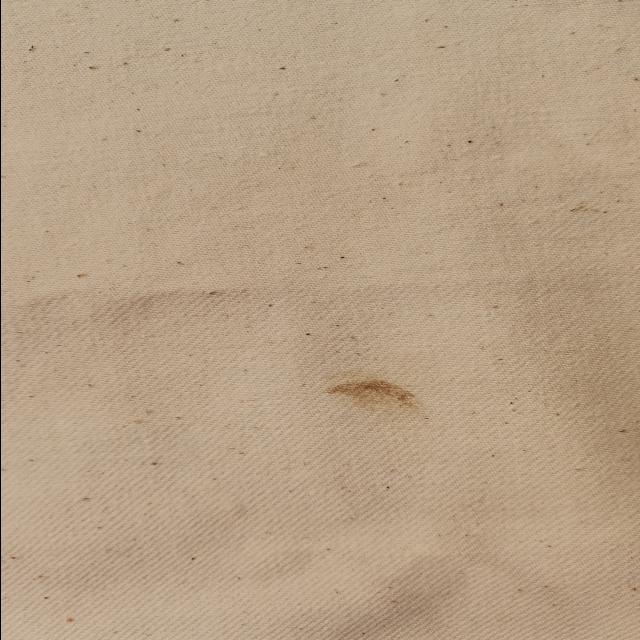taaaches: (323, 378, 424, 416)
